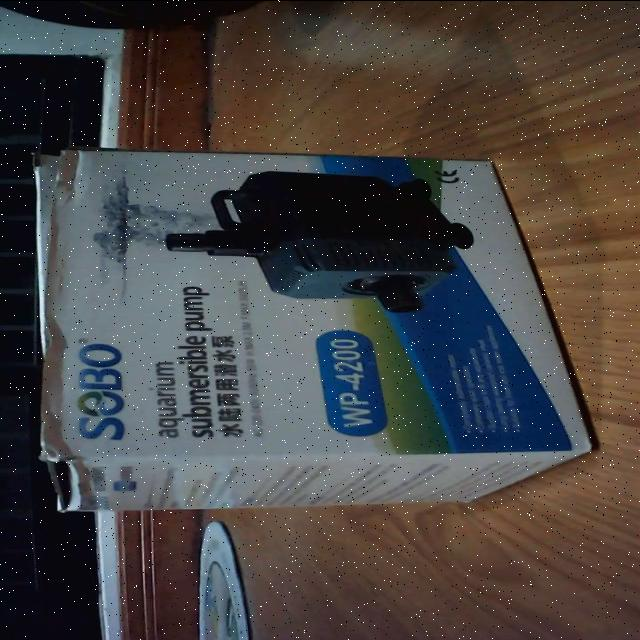SOBO_WP_4200: (19, 135, 606, 518)
